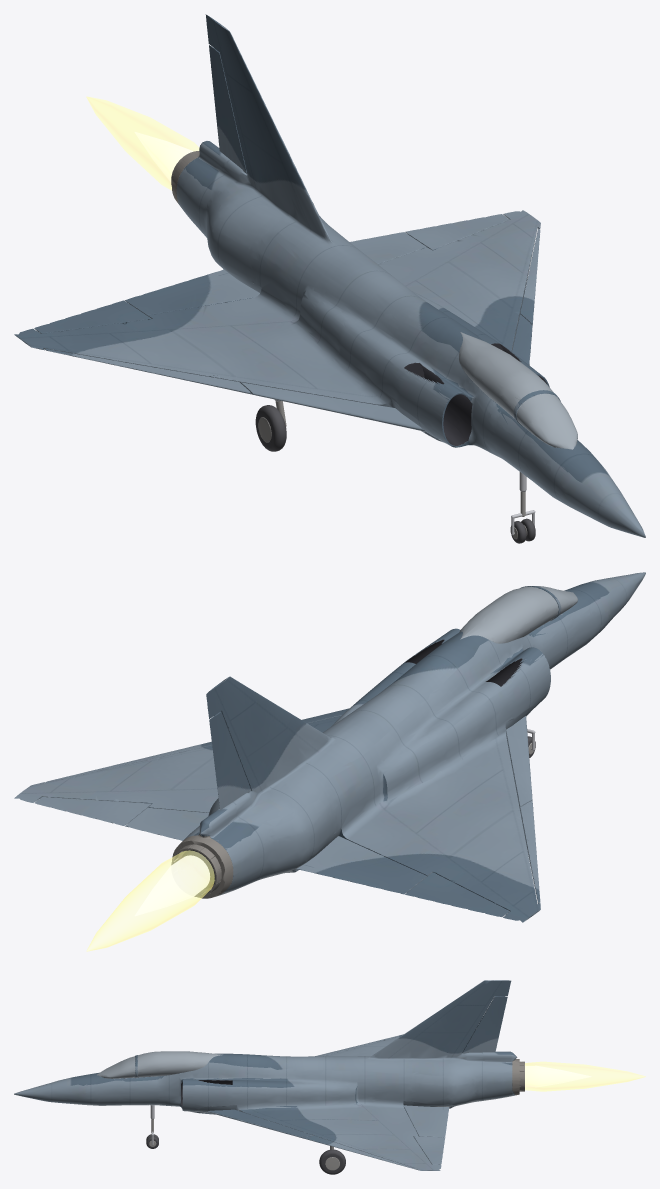
File: mirage2000.glb
3 views of the same model, one above another, from view 1: azimuth 30°, elevation 25°; view 2: azimuth 150°, elevation 25°; view 3: azimuth 270°, elevation 25° (orthographic). The views are drawn at different scales.
Visible parts, largest first — view 1: airframe, fsim:elevator+aileron:-1@-25,25 (×2), fsim:lef@-2,25 (×3), fsim:afterburner:0, fsim:elevator+aileron:1@-25,25 (×2), fsim:rudder, fsim:wheel:2:0.375; view 2: airframe, fsim:afterburner:0, fsim:elevator+aileron:-1@-25,25 (×2), fsim:elevator+aileron:1@-25,25 (×2), fsim:lef@-2,25 (×2), fsim:rudder; view 3: airframe, fsim:afterburner:0, fsim:elevator+aileron:1@-25,25 (×2), fsim:rudder, fsim:lef@-2,25 (×2), fsim:wheel:1:0.375.
Part boxes in pixels (left/top/right/bottom): airframe: left=14, top=14, right=645, bottom=537; fsim:elevator+aileron:-1@-25,25 (×2): left=34, top=269, right=259, bottom=333; fsim:lef@-2,25 (×3): left=44, top=228, right=540, bottom=431; fsim:afterburner:0: left=86, top=96, right=199, bottom=190; fsim:elevator+aileron:1@-25,25 (×2): left=350, top=214, right=509, bottom=264; fsim:rudder: left=209, top=45, right=246, bottom=173; fsim:wheel:2:0.375: left=255, top=405, right=286, bottom=451; airframe: left=14, top=572, right=645, bottom=922; fsim:afterburner:0: left=86, top=850, right=214, bottom=951; fsim:elevator+aileron:-1@-25,25 (×2): left=297, top=836, right=509, bottom=916; fsim:elevator+aileron:1@-25,25 (×2): left=35, top=797, right=208, bottom=840; fsim:lef@-2,25 (×2): left=506, top=716, right=540, bottom=903; fsim:rudder: left=209, top=711, right=251, bottom=810; airframe: left=14, top=980, right=519, bottom=1170; fsim:afterburner:0: left=525, top=1061, right=645, bottom=1091; fsim:elevator+aileron:1@-25,25 (×2): left=403, top=1105, right=449, bottom=1164; fsim:rudder: left=462, top=996, right=507, bottom=1053; fsim:lef@-2,25 (×2): left=206, top=1109, right=414, bottom=1168; fsim:wheel:1:0.375: left=319, top=1149, right=345, bottom=1174.
Size of the model in its own units: 9.34 by 5.21 by 17.75.
9 materials, 1 textured.
